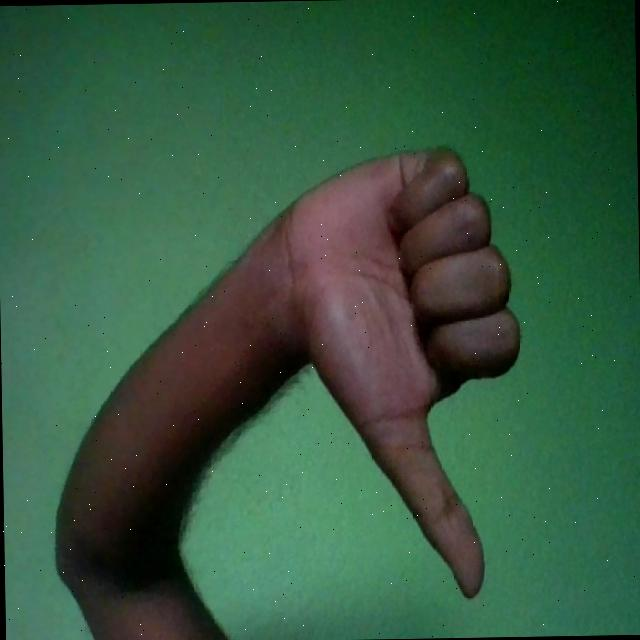Dislike: (282, 142, 527, 603)
